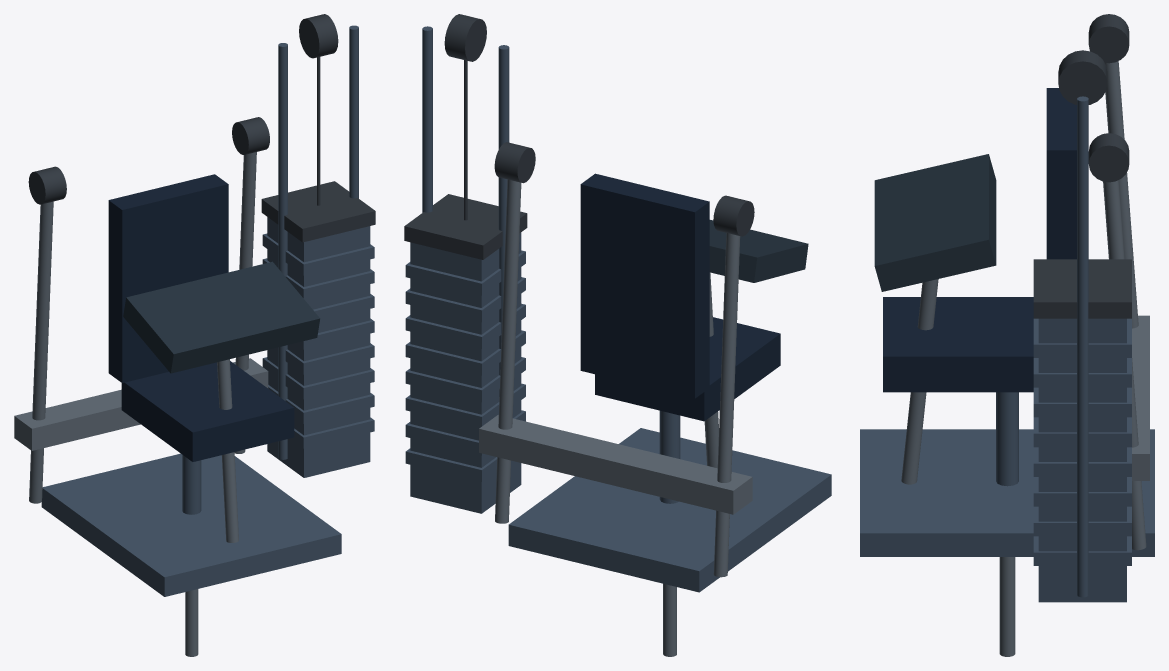
Rendered from preacher_machine.glb.
The picture shows the model from 3 angles, left to right: view 1: azimuth 30°, elevation 25°; view 2: azimuth 150°, elevation 25°; view 3: azimuth 270°, elevation 25°; orthographic projection. The views are drawn at different scales.
Visible parts, largest first — view 1: base, back, upperArmPad, stack, seat, weightPlate (×8), pivotBridge, guide (×2), stackLift, Lsupport, padSupport, Rsupport (+6 smaller); view 2: back, base, stack, weightPlate (×8), pivotBridge, seat, Rsupport, Lsupport, stackLift, guide (×2), upperArmPad, loadPulley (+6 smaller); view 3: base, seat, upperArmPad, stack, weightPlate (×8), guide, stackLift, back, pivotBridge, Rsupport, padSupport, Lsupport (+5 smaller).
Boxes of the visible parts, x1,y1,x2,y2 form: base: [41, 453, 341, 596]; back: [108, 174, 228, 382]; upperArmPad: [123, 261, 320, 373]; stack: [267, 217, 370, 477]; seat: [121, 361, 294, 461]; weightPlate (×8): [262, 233, 374, 448]; pivotBridge: [14, 358, 268, 450]; guide (×2): [278, 25, 358, 459]; stackLift: [261, 181, 375, 242]; Lsupport: [29, 201, 53, 503]; padSupport: [217, 359, 238, 542]; Rsupport: [234, 152, 256, 453]; back: [580, 173, 709, 398]; base: [508, 428, 831, 592]; stack: [410, 232, 521, 513]; weightPlate (×8): [405, 250, 525, 481]; pivotBridge: [479, 415, 752, 514]; seat: [595, 317, 780, 421]; Rsupport: [495, 179, 521, 523]; Lsupport: [713, 233, 740, 577]; stackLift: [404, 194, 527, 259]; guide (×2): [422, 26, 509, 396]; upperArmPad: [709, 220, 808, 282]; loadPulley: [444, 14, 486, 61]; base: [860, 429, 1154, 556]; seat: [883, 297, 1033, 392]; upperArmPad: [874, 154, 996, 291]; stack: [1038, 318, 1126, 602]; weightPlate (×8): [1033, 318, 1131, 565]; guide: [1077, 96, 1088, 597]; stackLift: [1033, 259, 1131, 318]; back: [1046, 88, 1076, 259]; pivotBridge: [1132, 315, 1149, 480]; Rsupport: [1103, 180, 1146, 550]; padSupport: [901, 279, 938, 484]; Lsupport: [1105, 61, 1138, 328].
Bounding box in the file's own units: 1.34 × 2.33 × 0.9.
